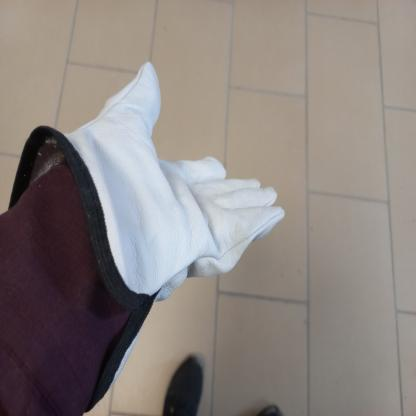gloves: (36, 64, 289, 284)
